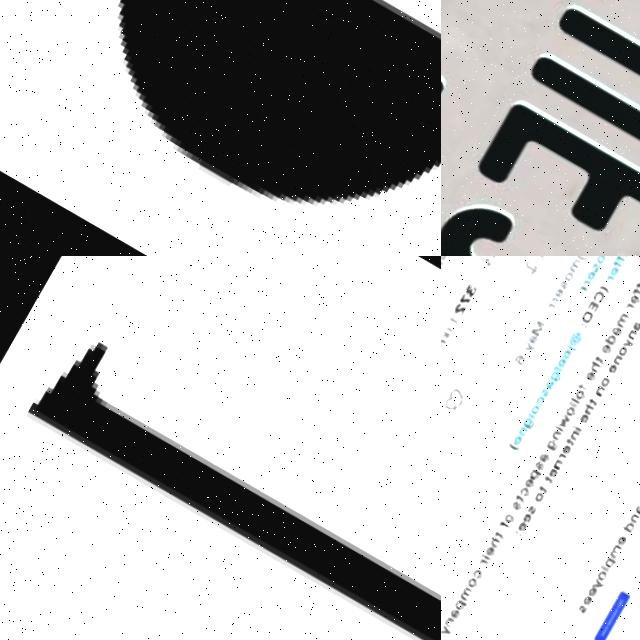2: (441, 180, 640, 256), (454, 299, 468, 313)
3: (465, 280, 479, 294)
5: (0, 0, 441, 256)
6: (514, 350, 529, 364)
7: (459, 289, 474, 304)
E: (469, 90, 640, 256)
L: (0, 303, 441, 640)
U: (520, 0, 640, 196)
